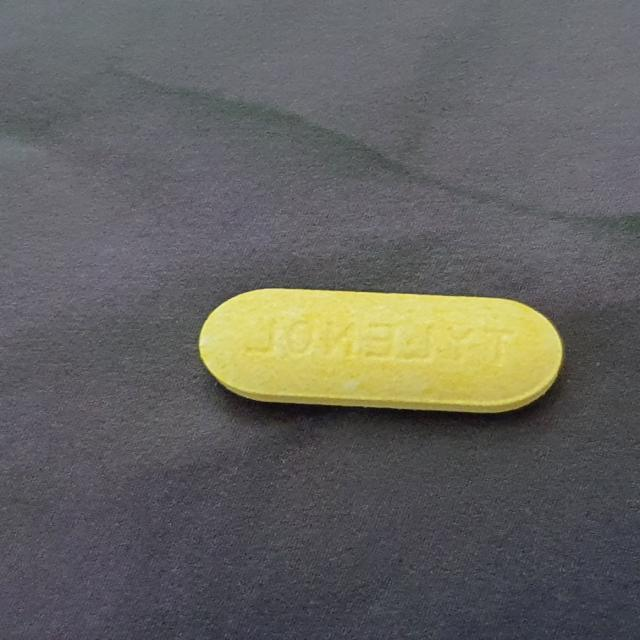pill: (191, 276, 573, 436)
